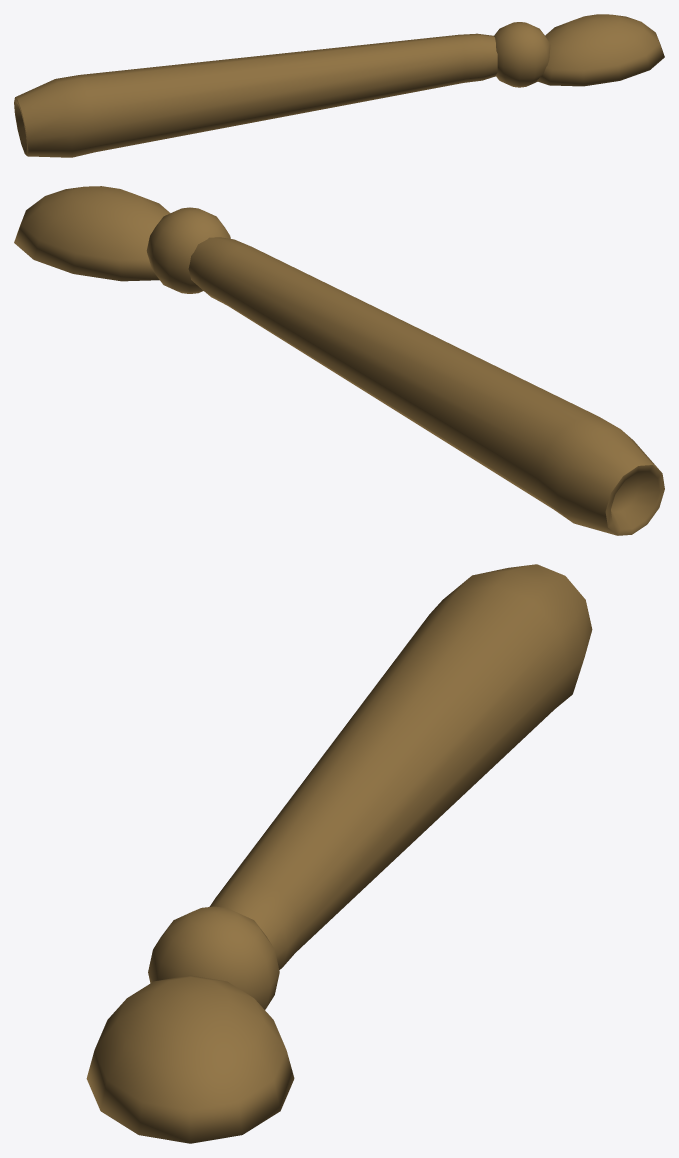
The model's file is piezas_brazo2.fbx.
3 views of the same model, one above another, from view 1: azimuth 30°, elevation 25°; view 2: azimuth 150°, elevation 25°; view 3: azimuth 270°, elevation 25° (orthographic). The views are drawn at different scales.
Visible parts, largest first — view 1: dummy_obj.008; view 2: dummy_obj.008; view 3: dummy_obj.008.
Boxes of the visible parts, x1,y1,x2,y2 form: dummy_obj.008: (14, 14, 664, 157); dummy_obj.008: (14, 186, 664, 535); dummy_obj.008: (86, 564, 592, 1143).
Bounding box in the file's own units: 29.9 × 4.59 × 11.64.
